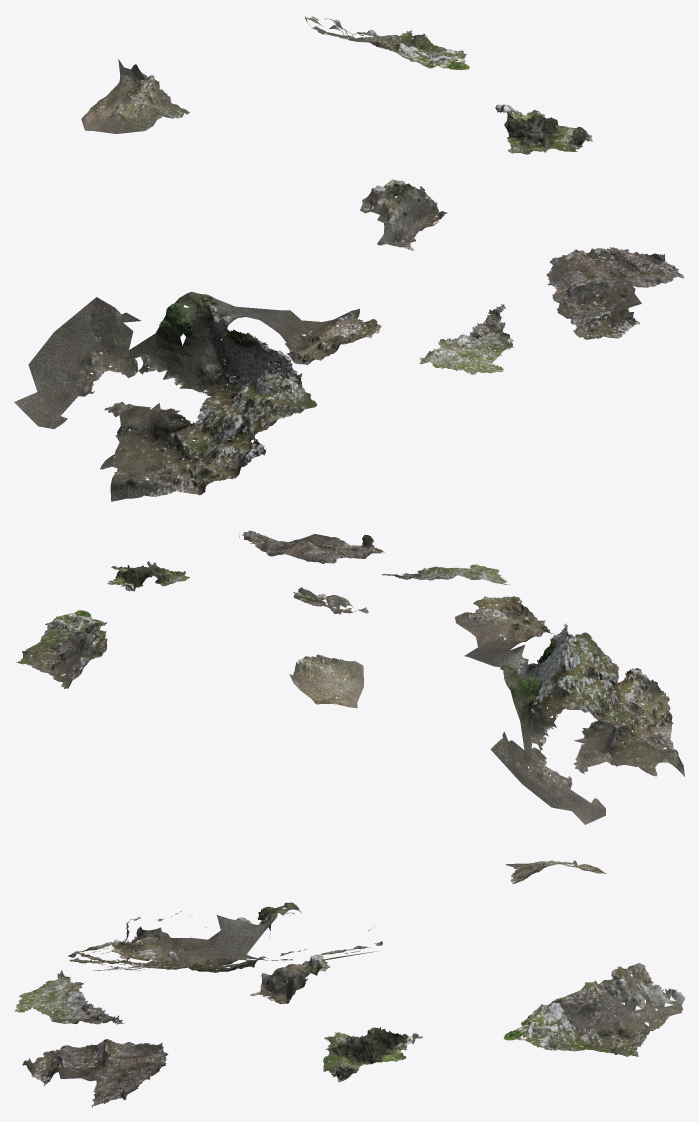
3 renders of one model, top to bottom at view 1: azimuth 30°, elevation 25°; view 2: azimuth 150°, elevation 25°; view 3: azimuth 270°, elevation 25°, orthographic. The views are drawn at different scales.
Size of the model in its own units: 65.4 by 25.06 by 66.46.
Materials: 1 (1 with a texture image).
